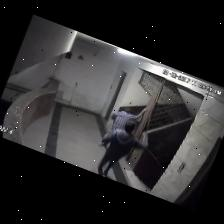person: (98, 120, 146, 176), (104, 108, 147, 136)
